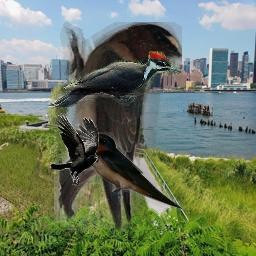Crow: (50, 113, 99, 188)
Swallow: (54, 22, 182, 232), (85, 132, 184, 211)
Woodpecker: (48, 51, 181, 107)
